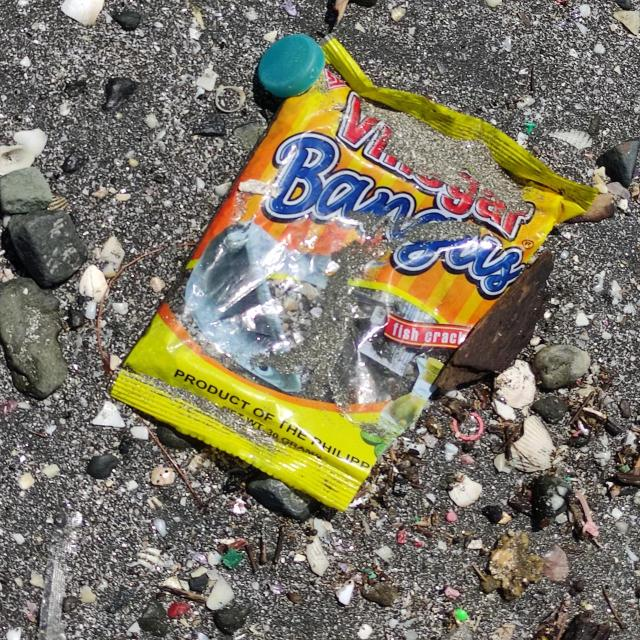plastic_waste: (106, 21, 600, 509), (256, 36, 324, 100)
